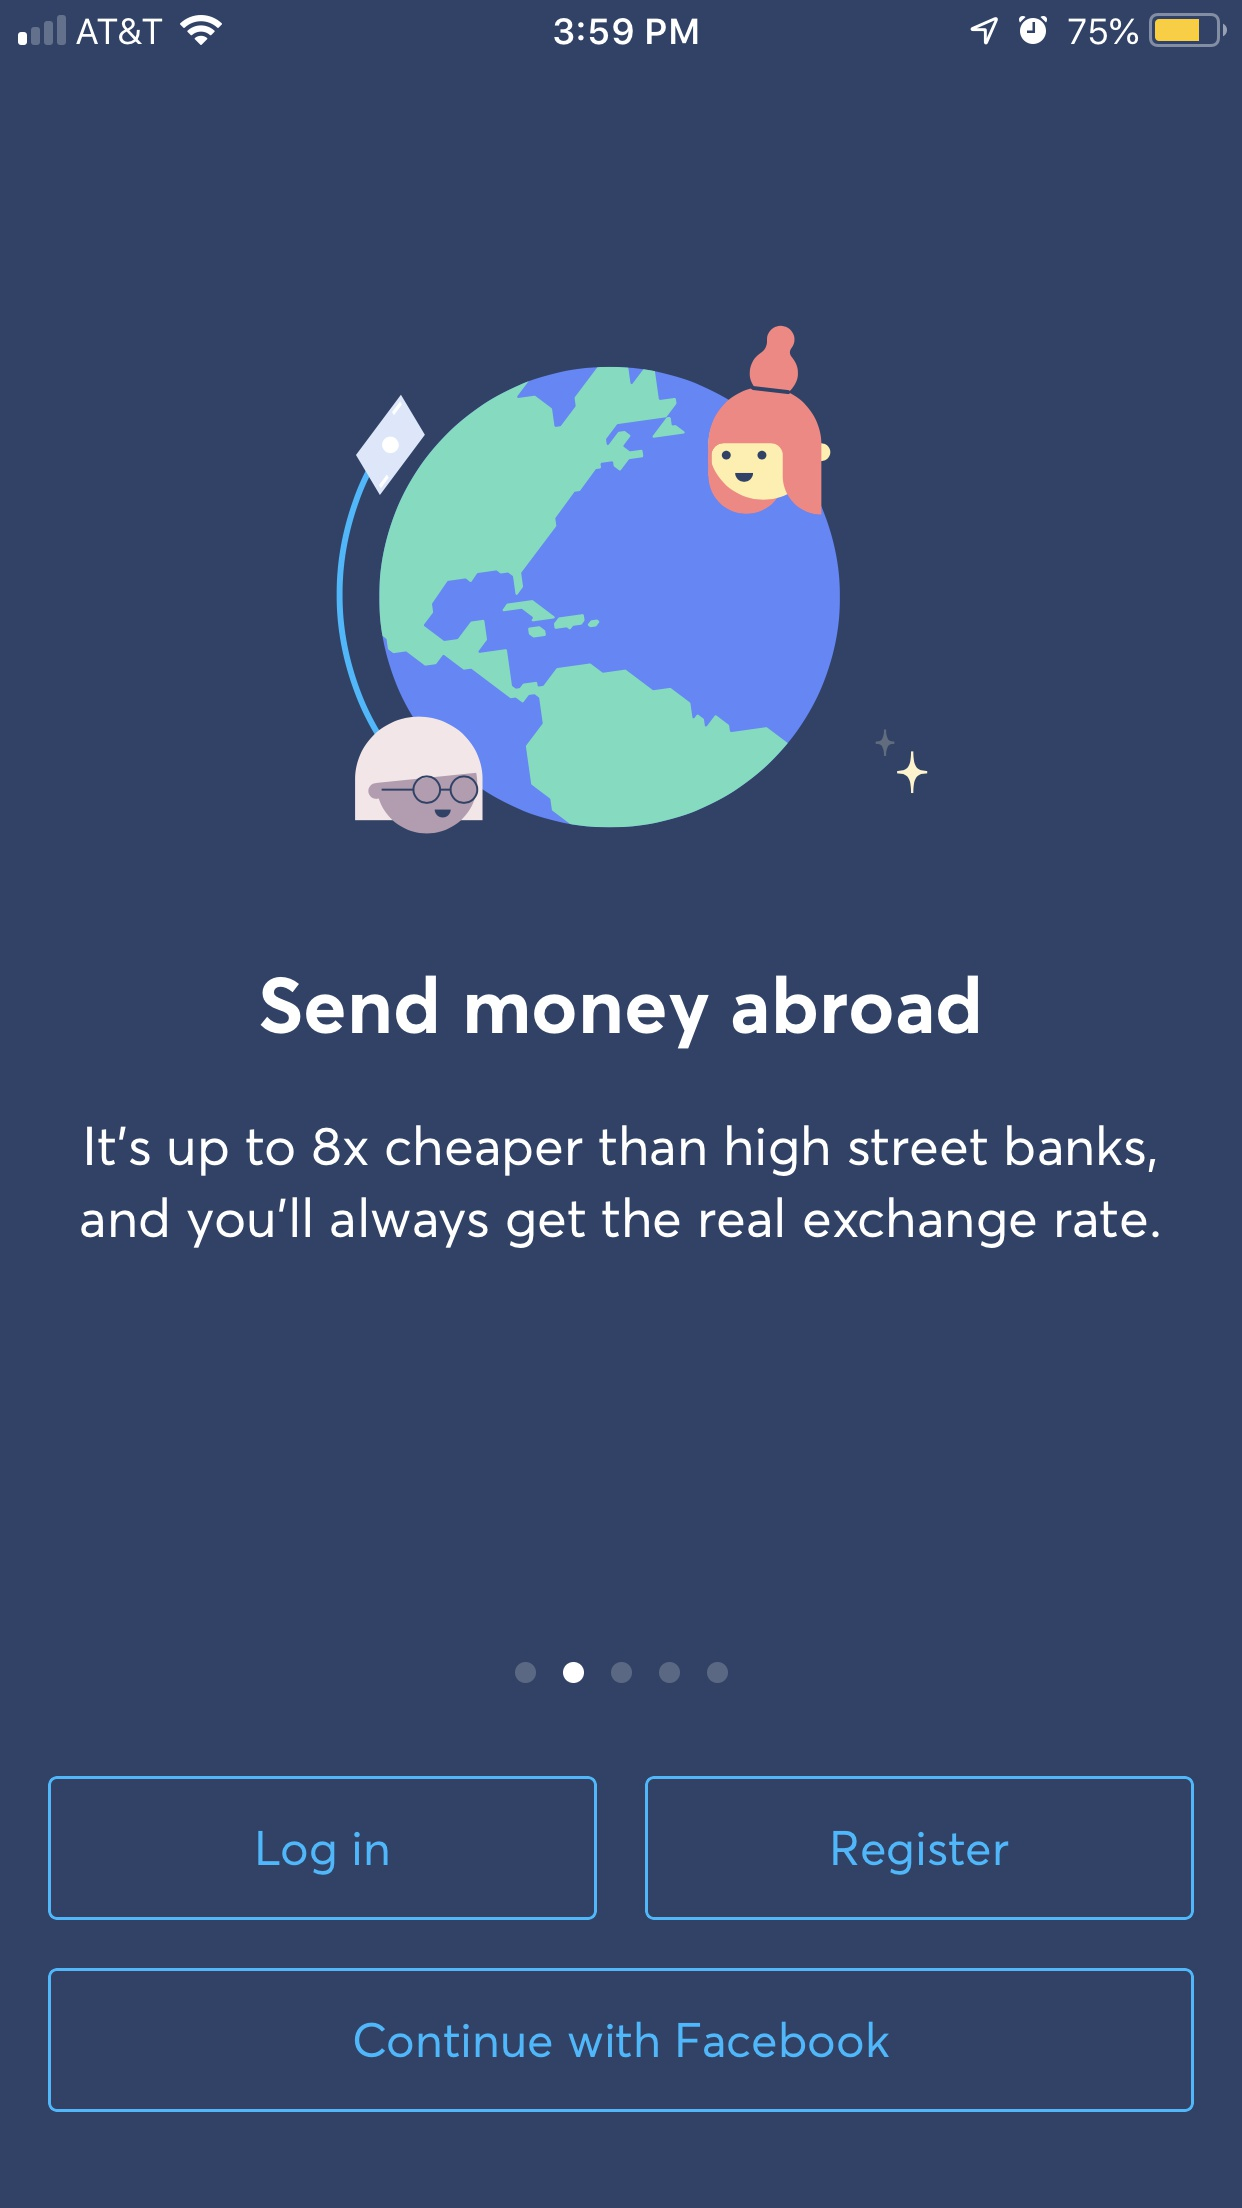Image: (335, 325, 928, 836)
PageIndicator: (514, 1661, 729, 1685)
Text: (80, 1124, 1160, 1250), (259, 975, 980, 1051)
TextButton: (49, 1967, 1195, 2112), (47, 1774, 597, 1921), (645, 1774, 1195, 1921)
UpperTaskBar: (2, 2, 1242, 49)
